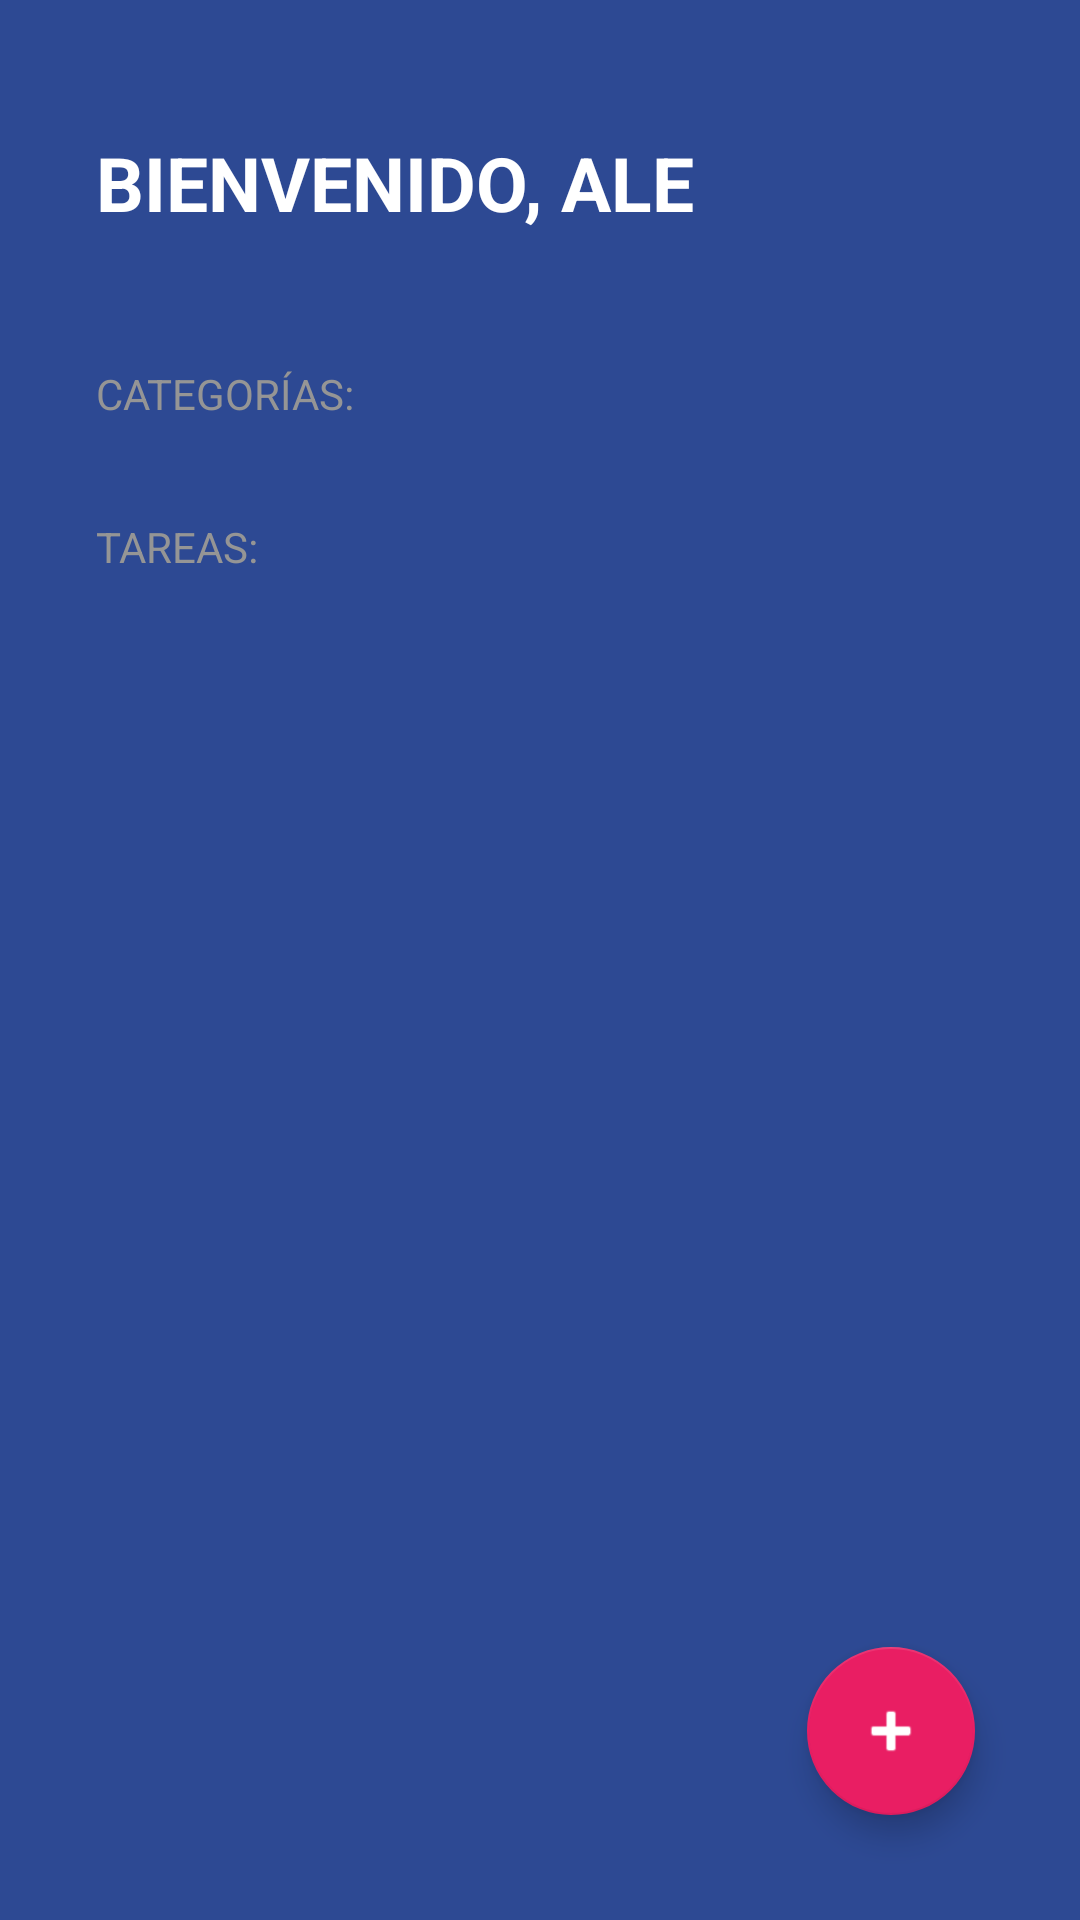

Where icons sit on this 1080w x 1920h app screen, as (x1, y1, x2, y2):
add: (807, 1647, 975, 1815)
